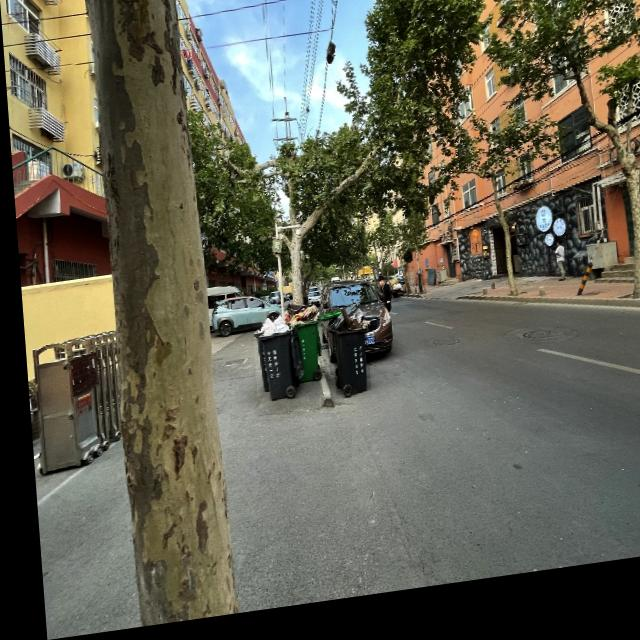overflow: (324, 311, 365, 404), (247, 321, 288, 408), (282, 308, 316, 391)
